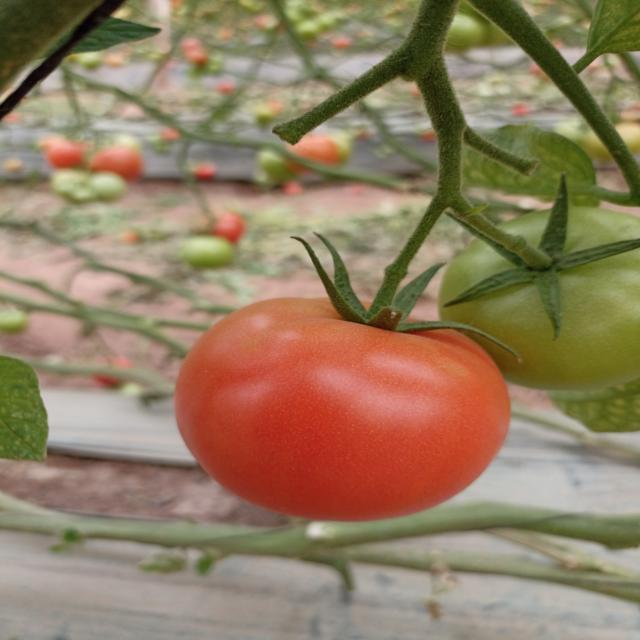Ripe Tomato: (169, 286, 508, 524), (89, 136, 154, 183), (32, 131, 94, 178), (202, 204, 257, 248), (286, 132, 340, 171), (90, 352, 126, 382), (218, 76, 238, 95), (186, 47, 206, 65), (194, 162, 215, 179), (333, 37, 354, 49), (288, 184, 304, 197)
Unripe Tomato: (442, 204, 640, 398), (170, 232, 241, 275), (579, 122, 640, 162), (82, 165, 132, 202), (447, 18, 488, 54), (44, 167, 90, 197), (3, 308, 35, 338), (258, 143, 284, 179), (294, 22, 318, 41), (256, 106, 276, 128), (316, 18, 334, 30)
